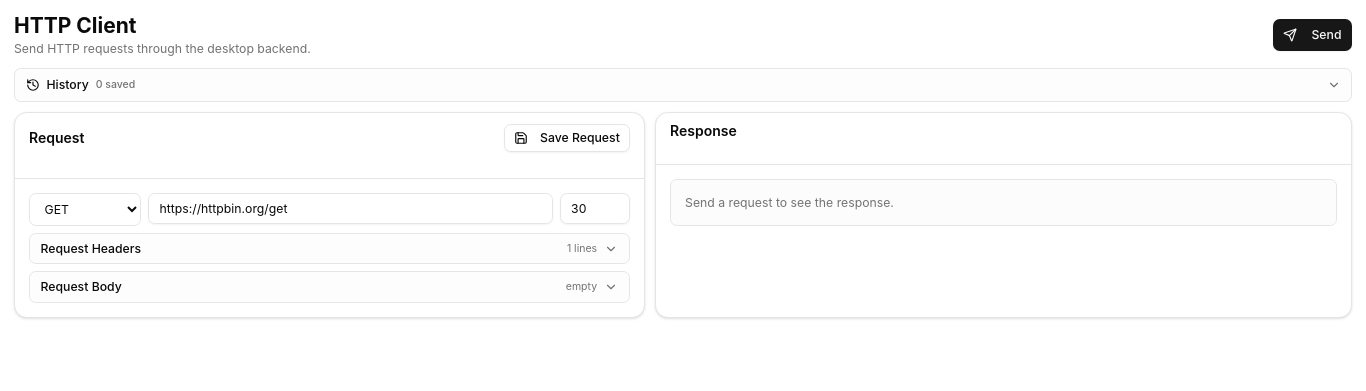
Test: HTTPClientView › keeps history collapsed until requested
This screenshot has width=1366, height=391.
Click the button with test id "http-history-trigger". click: (68, 84)
box: 15,69 -> 1351,100
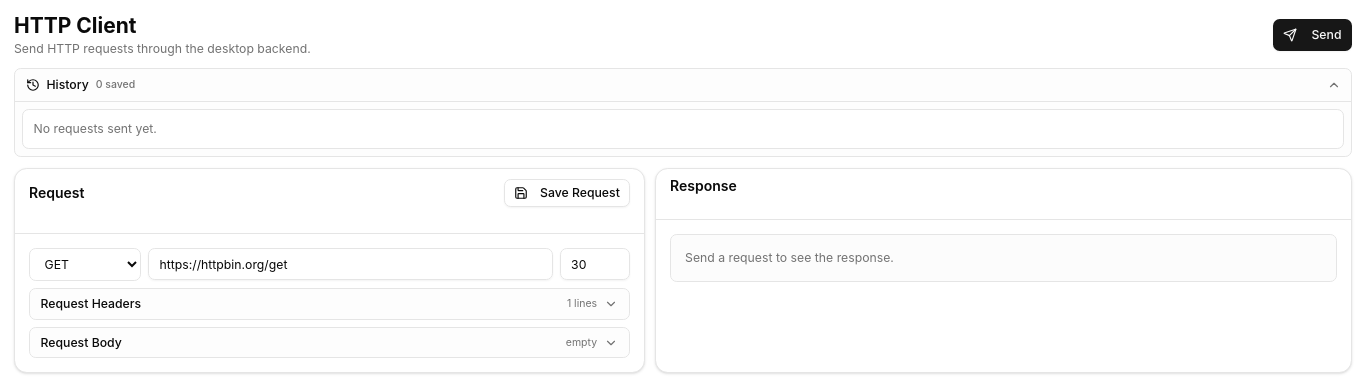
Expected: the element with test id "http-history-panel" is shown, 15,100 -> 1351,156
Expected: the text "No requests sent yet." is shown, 22,108 -> 1344,149
